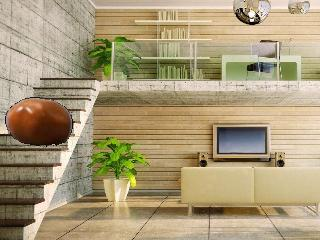potato: (5, 98, 72, 144)
